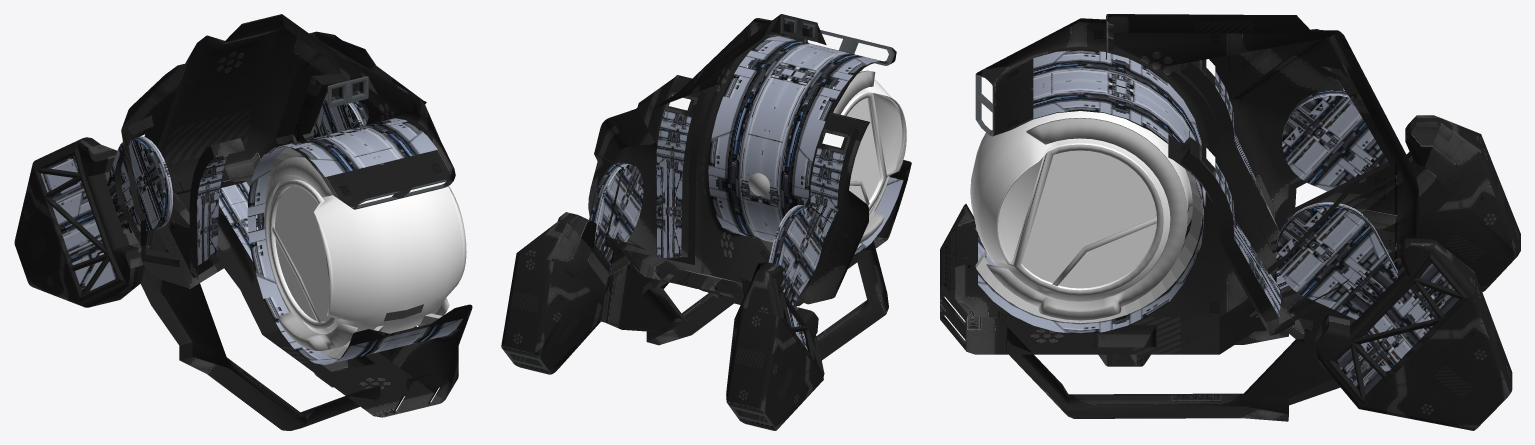
File: Orbvortex.glb
The picture shows the model from 3 angles, left to right: view 1: azimuth 30°, elevation 25°; view 2: azimuth 150°, elevation 25°; view 3: azimuth 270°, elevation 25°; orthographic projection. The views are drawn at different scales.
Visible parts, largest first — view 1: super motor hull, Cylinder, rotor 2, rotor 1; view 2: super motor hull, rotor 1, rotor 2, Cylinder; view 3: super motor hull, Cylinder, rotor 1, rotor 2.
Boxes of the visible parts, <box> form: super motor hull: <box>114,14,472,430</box>; Cylinder: <box>264,147,466,358</box>; rotor 2: <box>14,136,172,307</box>; rotor 1: <box>310,91,368,137</box>; super motor hull: <box>588,14,911,360</box>; rotor 1: <box>501,162,643,374</box>; rotor 2: <box>726,205,824,430</box>; Cylinder: <box>748,62,906,243</box>; super motor hull: <box>940,14,1418,421</box>; Cylinder: <box>970,111,1205,323</box>; rotor 1: <box>1276,202,1512,430</box>; rotor 2: <box>1282,90,1520,291</box>.
Bounding box in the file's own units: 4.27 × 4.4 × 6.6.
16 materials, 3 textured.
